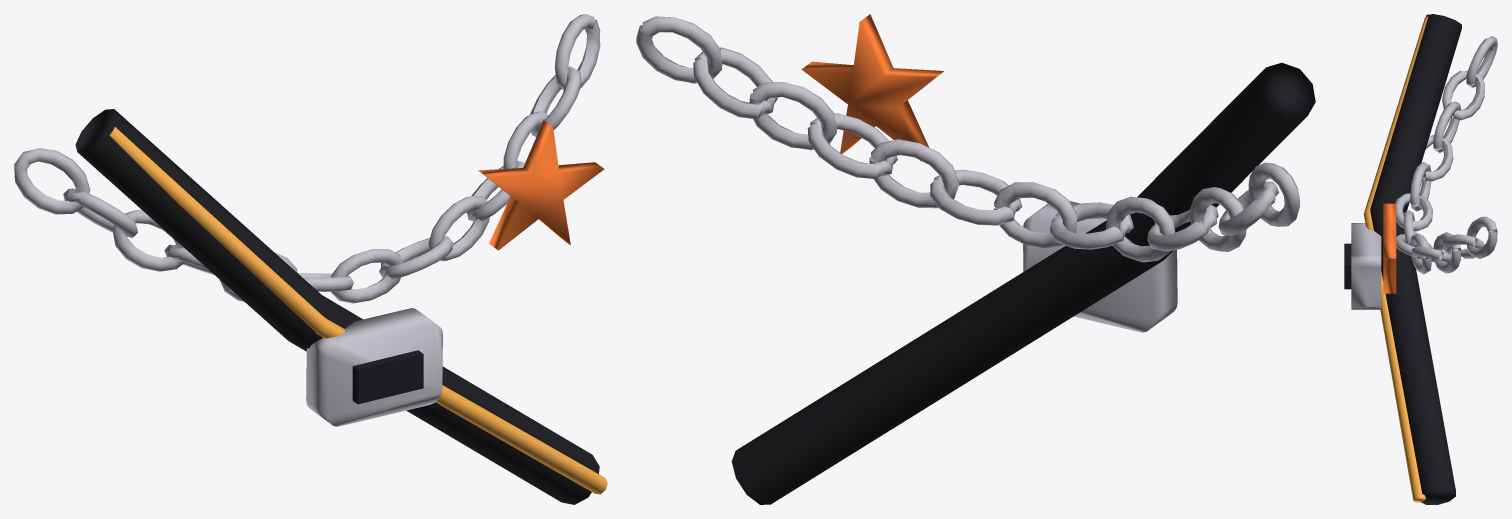
Rendered from sol_chest_jewellery.glb.
The picture shows the model from 3 angles, left to right: view 1: azimuth 30°, elevation 25°; view 2: azimuth 150°, elevation 25°; view 3: azimuth 270°, elevation 25°; orthographic projection. The views are drawn at different scales.
Visible parts, largest first — view 1: sol_chest_jewellery; view 2: sol_chest_jewellery; view 3: sol_chest_jewellery.
Part boxes in pixels (left/top/right/bottom): sol_chest_jewellery: left=14, top=14, right=607, bottom=504; sol_chest_jewellery: left=636, top=14, right=1315, bottom=504; sol_chest_jewellery: left=1344, top=14, right=1497, bottom=504.
Bounding box in the file's own units: 0.3566 × 0.2896 × 0.1182.
